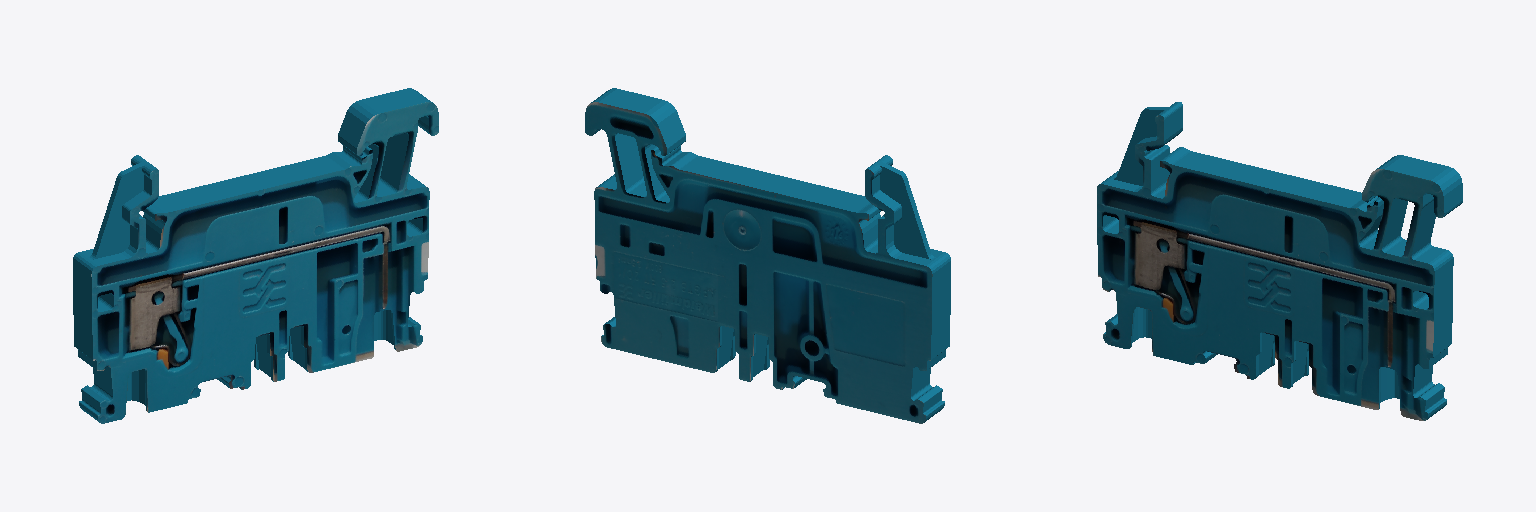
3 views of the same model, side by side, from view 1: azimuth 30°, elevation 25°; view 2: azimuth 150°, elevation 25°; view 3: azimuth 330°, elevation 25° (orthographic).
Parts seen in each view (by area): view 1: [number redacted]_[number redacted].002; view 2: [number redacted]_[number redacted].002; view 3: [number redacted]_[number redacted].002.
Boxes of the visible parts, box(x1,y1,x2,y2) form: [number redacted]_[number redacted].002: box(73, 88, 438, 423); [number redacted]_[number redacted].002: box(585, 88, 950, 423); [number redacted]_[number redacted].002: box(1097, 102, 1462, 420).
Bounding box in the file's own units: 0.0542 × 0.0362 × 0.0051.
Materials: 1 (1 with a texture image).